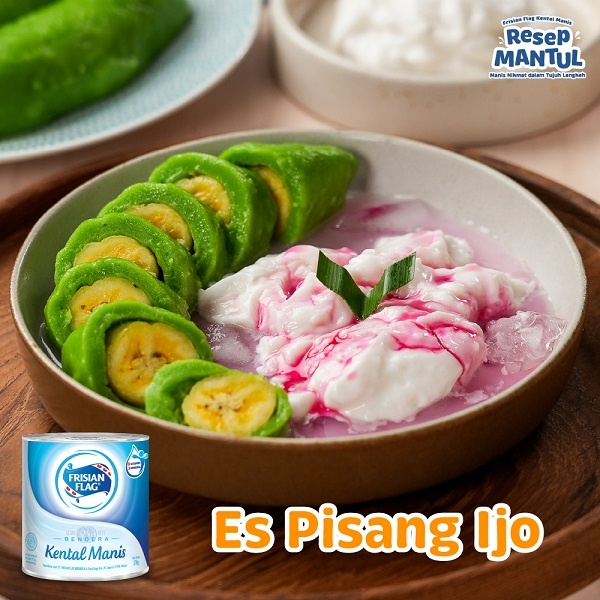pisang_ijo: (151, 344, 309, 439)
